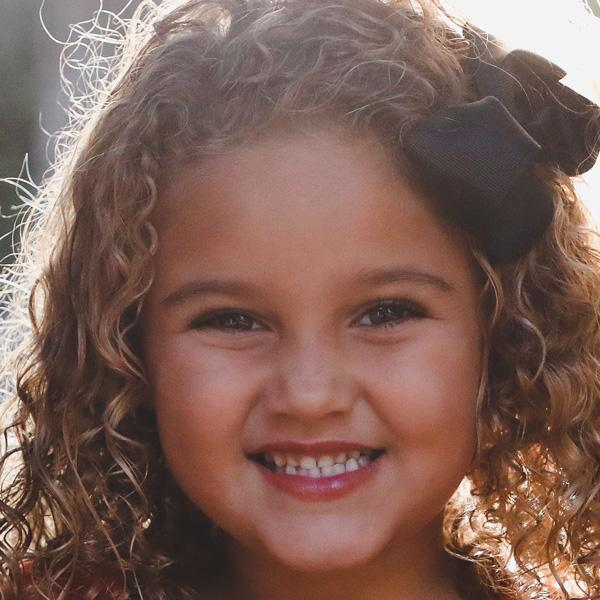Eyes: (179, 297, 279, 355), (337, 289, 434, 343)
